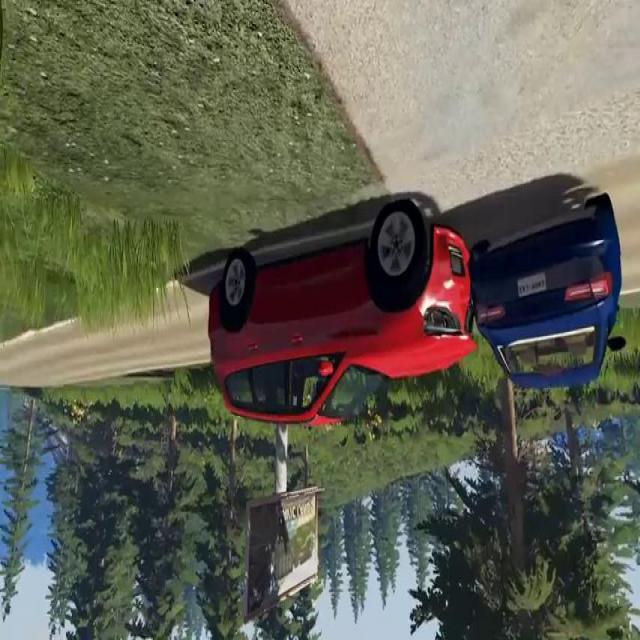moderate: (204, 190, 629, 438)
